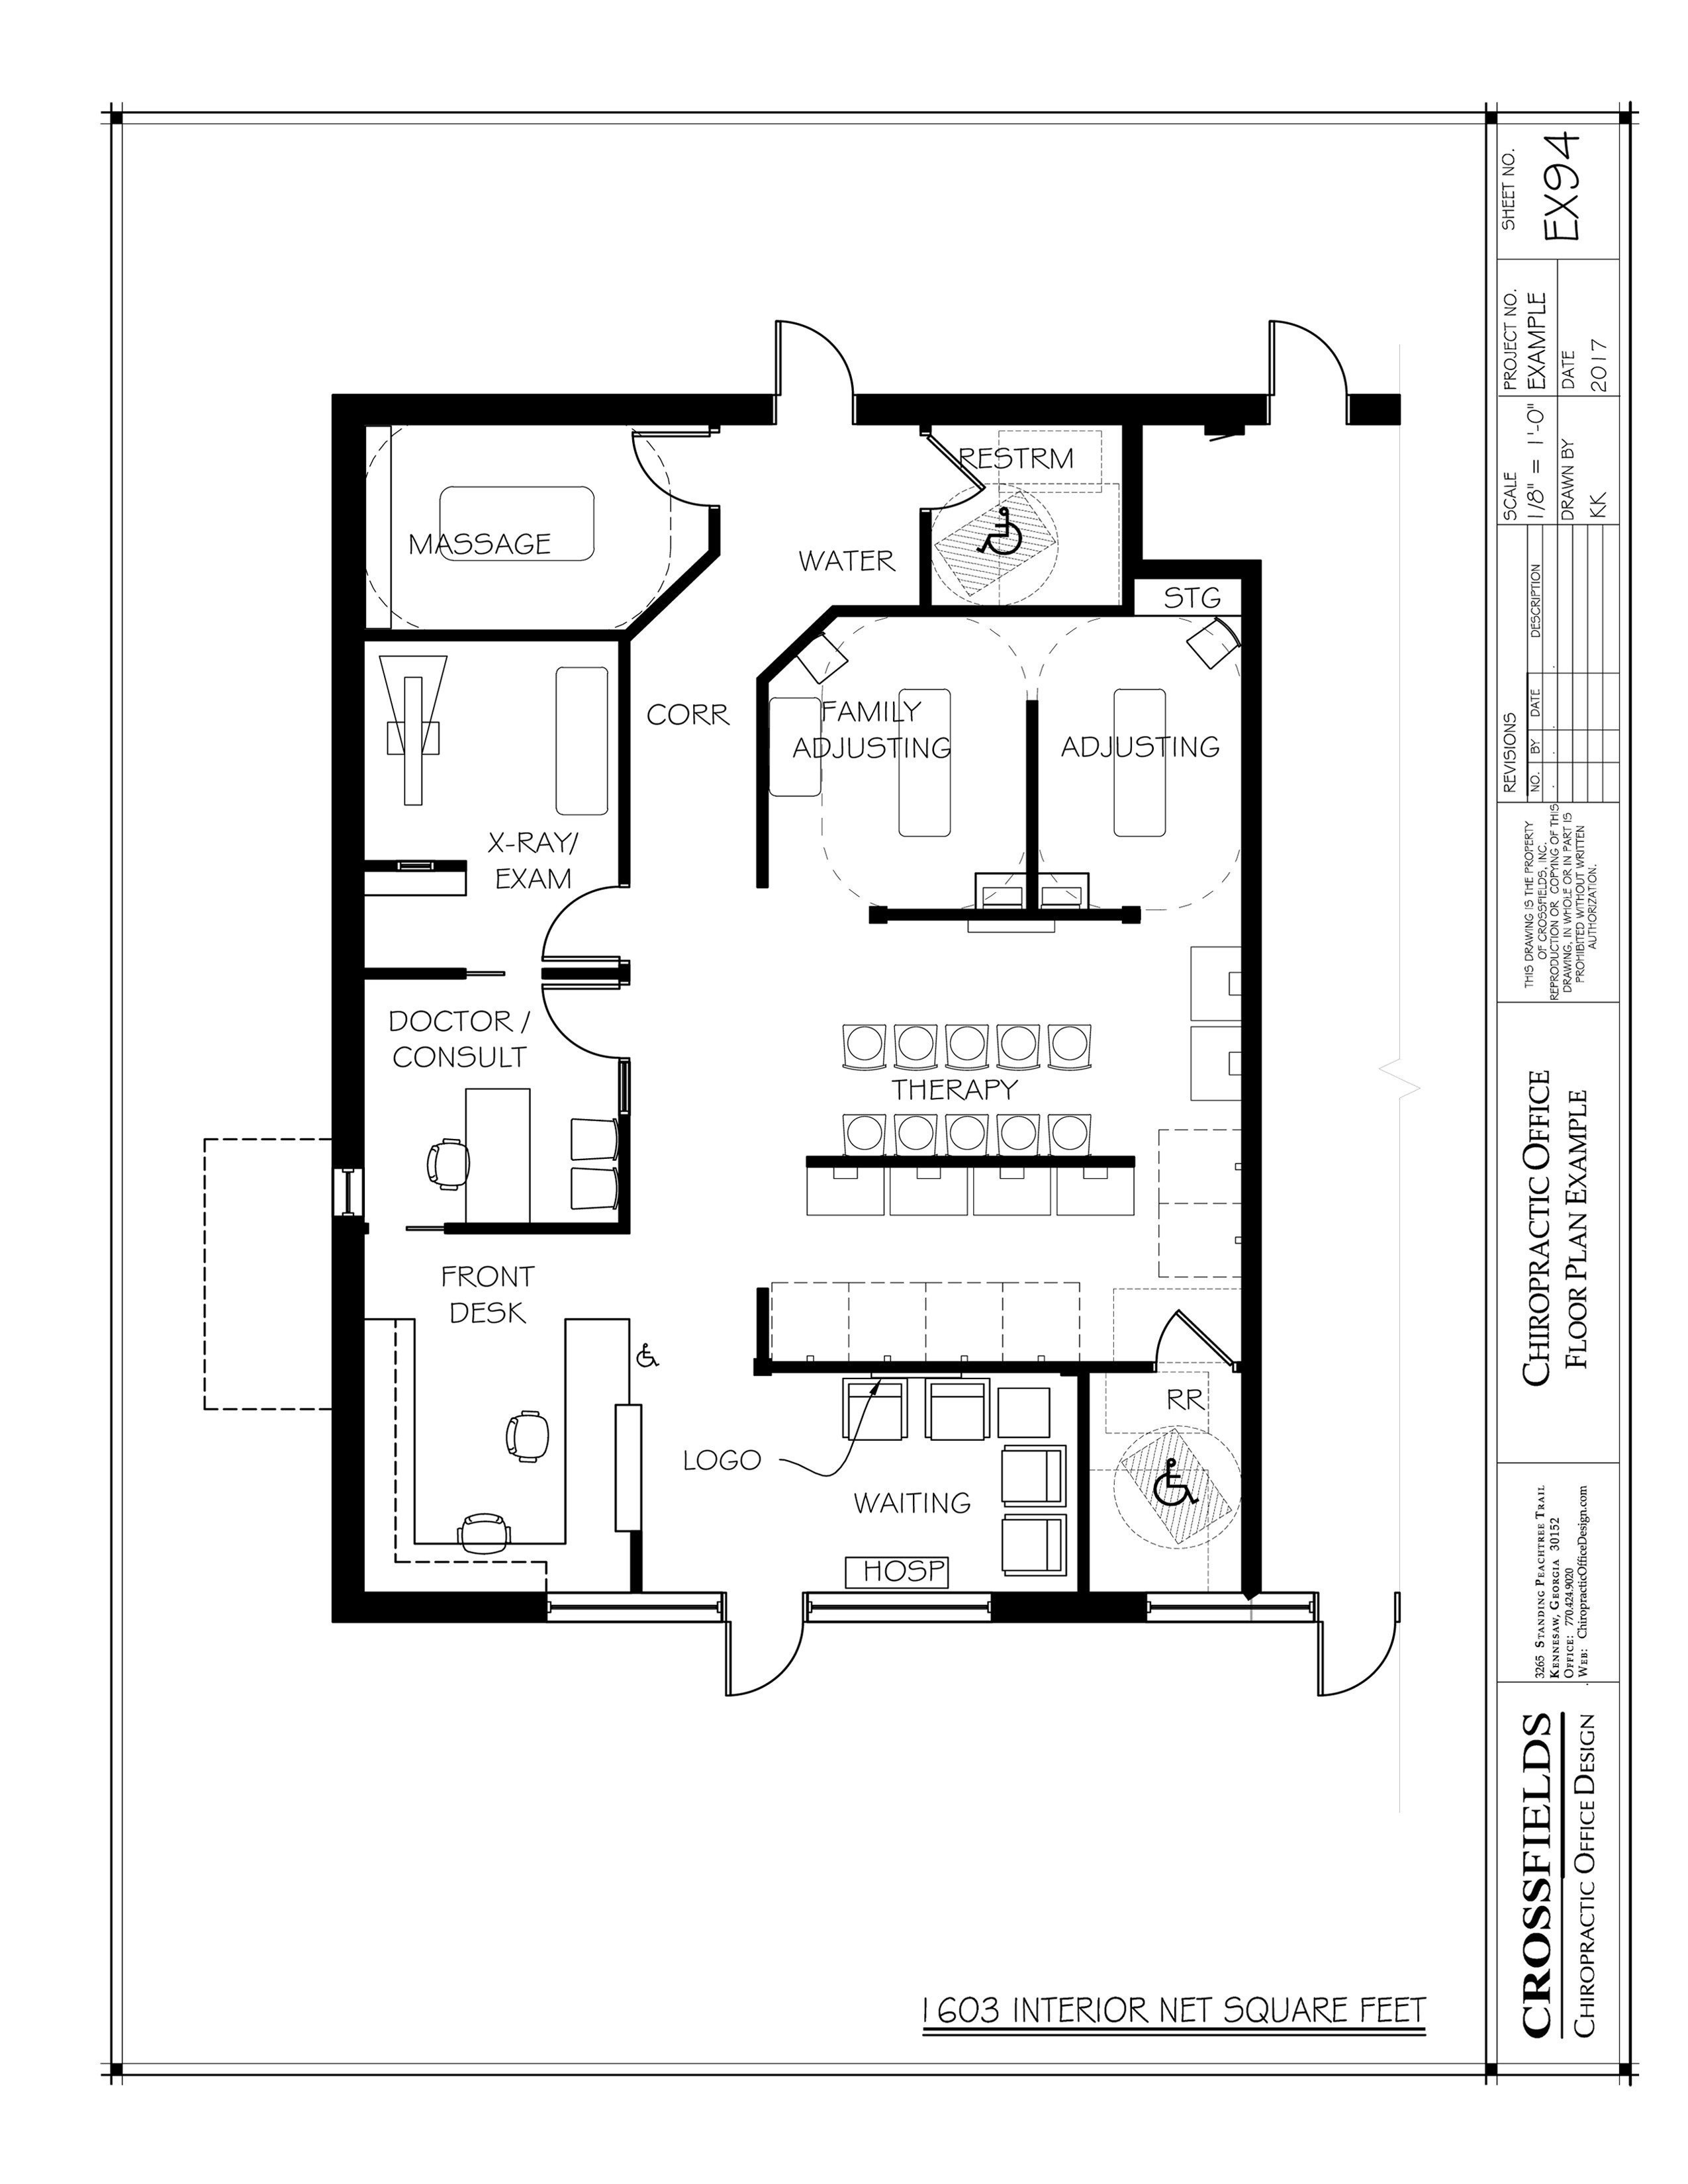wall: (1246, 574, 1264, 1367), (330, 1221, 363, 1622), (332, 640, 362, 982), (335, 397, 777, 418), (856, 394, 1138, 425), (332, 427, 374, 635), (332, 975, 371, 1159), (1246, 1369, 1268, 1588), (1124, 394, 1270, 424), (360, 1595, 544, 1618), (1119, 424, 1144, 580), (807, 1158, 1133, 1168), (757, 682, 773, 888), (365, 628, 628, 640), (1076, 1367, 1090, 1590), (989, 1592, 1087, 1622), (1027, 700, 1039, 916), (619, 642, 629, 881), (922, 604, 1138, 615), (1085, 1594, 1147, 1626), (754, 1285, 775, 1377), (1348, 392, 1401, 427), (1128, 558, 1259, 573), (762, 1367, 1094, 1372), (874, 909, 1034, 920), (443, 1223, 631, 1232), (617, 1124, 633, 1221), (1028, 909, 1140, 922), (920, 512, 933, 604), (839, 603, 913, 615), (1087, 1361, 1154, 1374), (711, 509, 723, 557), (543, 970, 624, 977)
